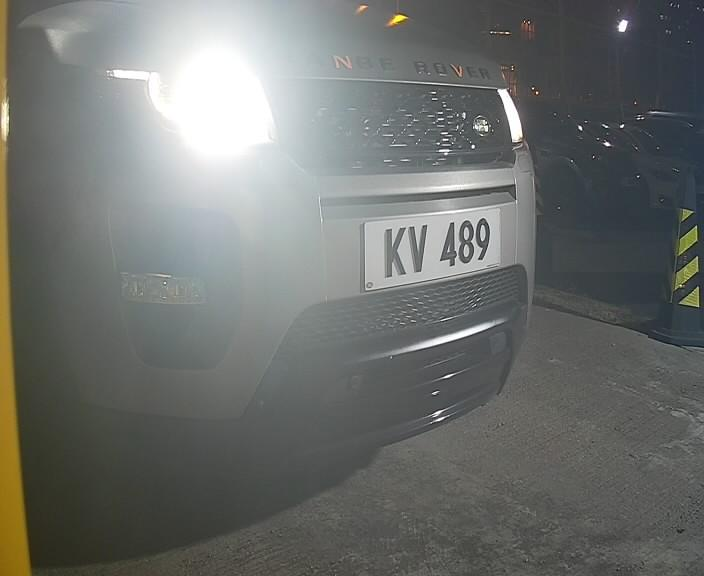privatecar: (1, 6, 537, 495)
